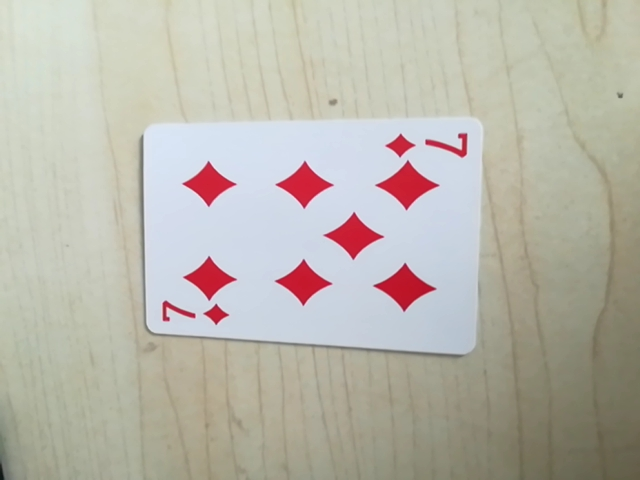fk 7: (379, 123, 472, 163), (153, 298, 232, 331)
